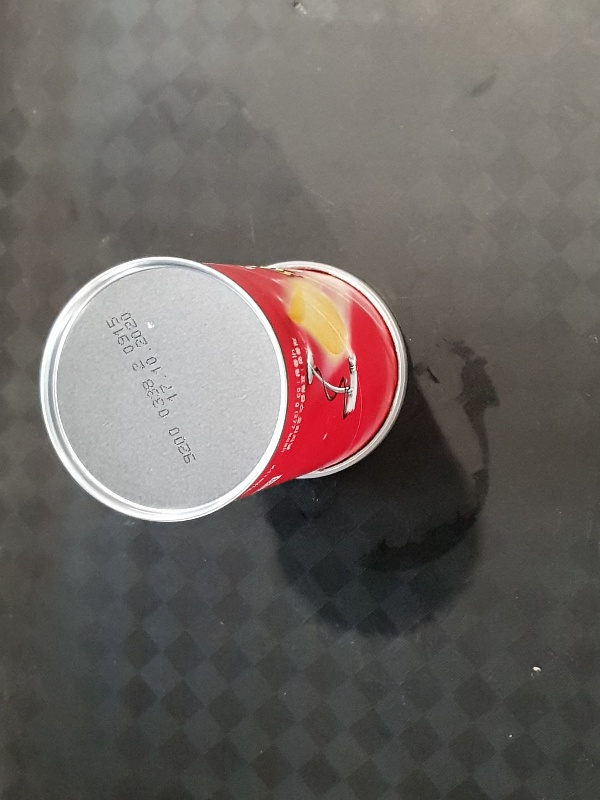Pringles Original: (37, 255, 409, 524)
